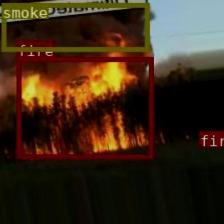fire: (17, 57, 152, 158), (198, 131, 223, 142)
smoke: (1, 2, 148, 51)
